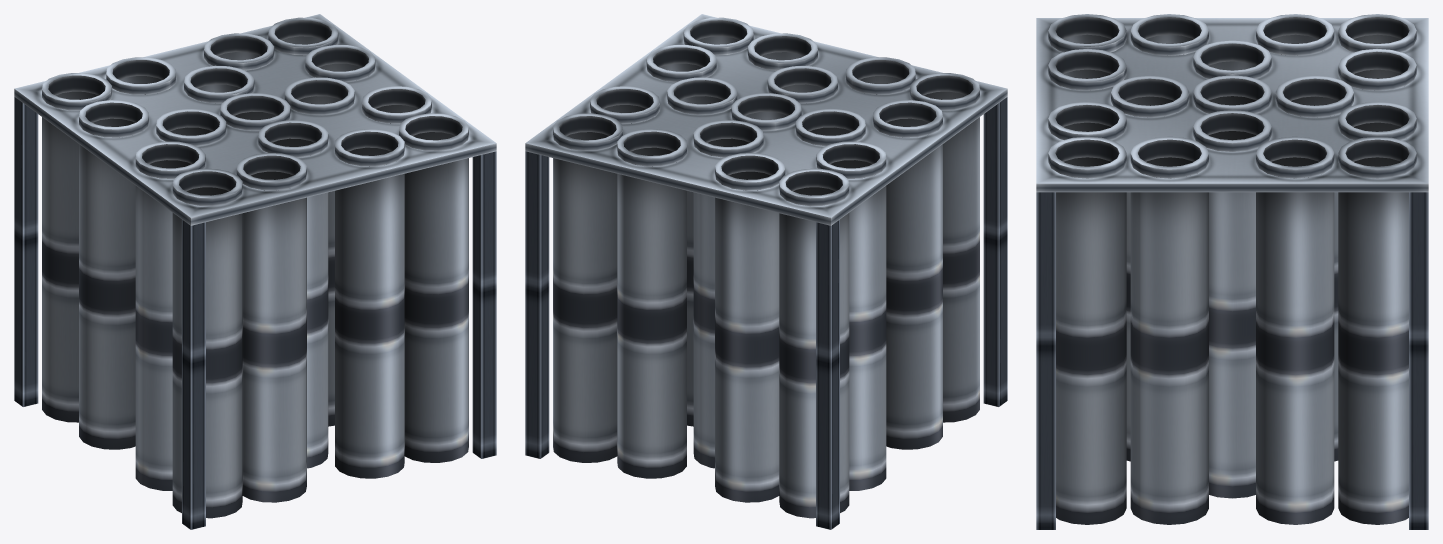
The model's file is suz_frame_top.obj.
The picture shows the model from 3 angles, left to right: view 1: azimuth 30°, elevation 25°; view 2: azimuth 150°, elevation 25°; view 3: azimuth 270°, elevation 25°; orthographic projection. The views are drawn at different scales.
Visible parts, largest first — view 1: suz_frame_top; view 2: suz_frame_top; view 3: suz_frame_top.
Part boxes in pixels (x1,y1,x2,y2): suz_frame_top: [14, 14, 496, 529]; suz_frame_top: [525, 14, 1007, 529]; suz_frame_top: [1036, 14, 1428, 529].
Bounding box in the file's own units: 1 × 1 × 1.
